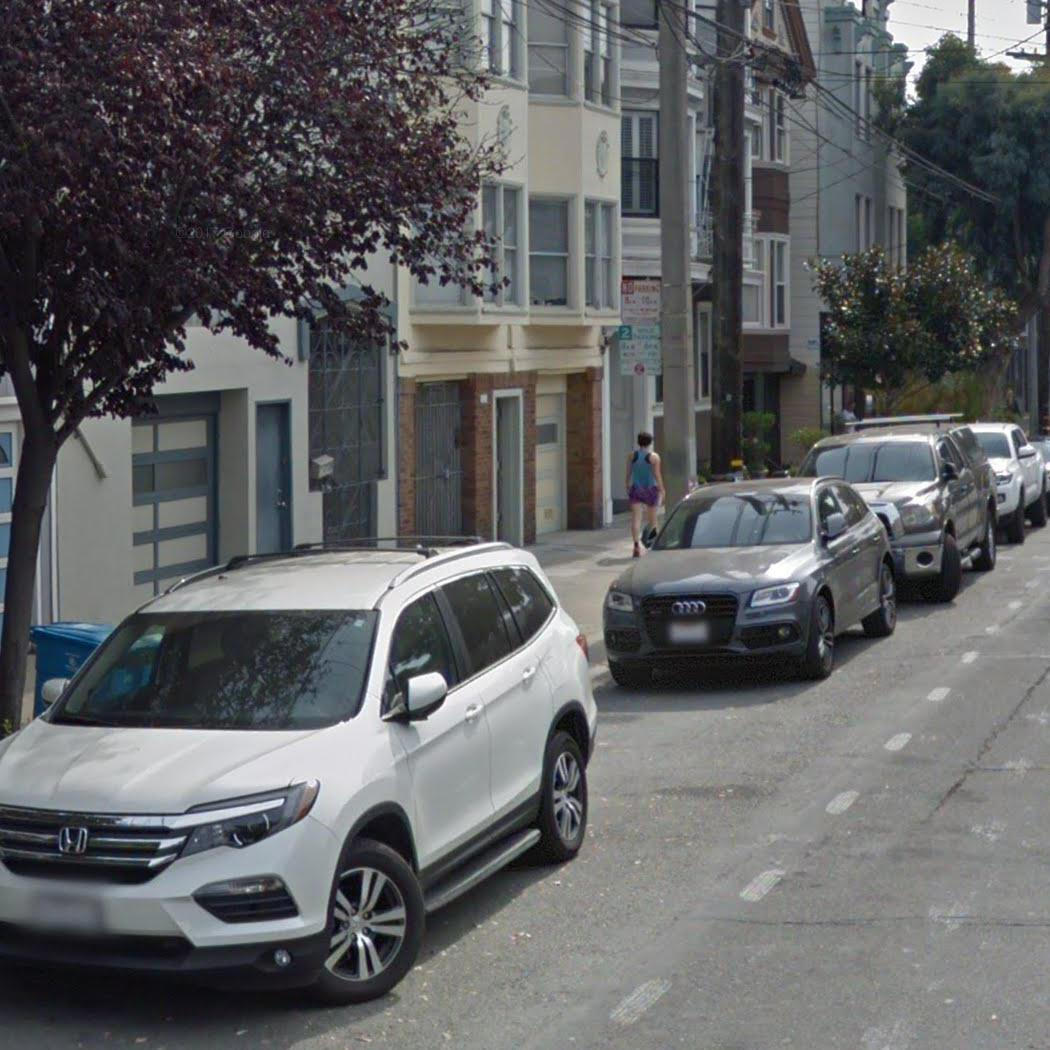2 Hour Parking: (617, 324, 664, 378)
No Parking: (619, 276, 663, 326)
